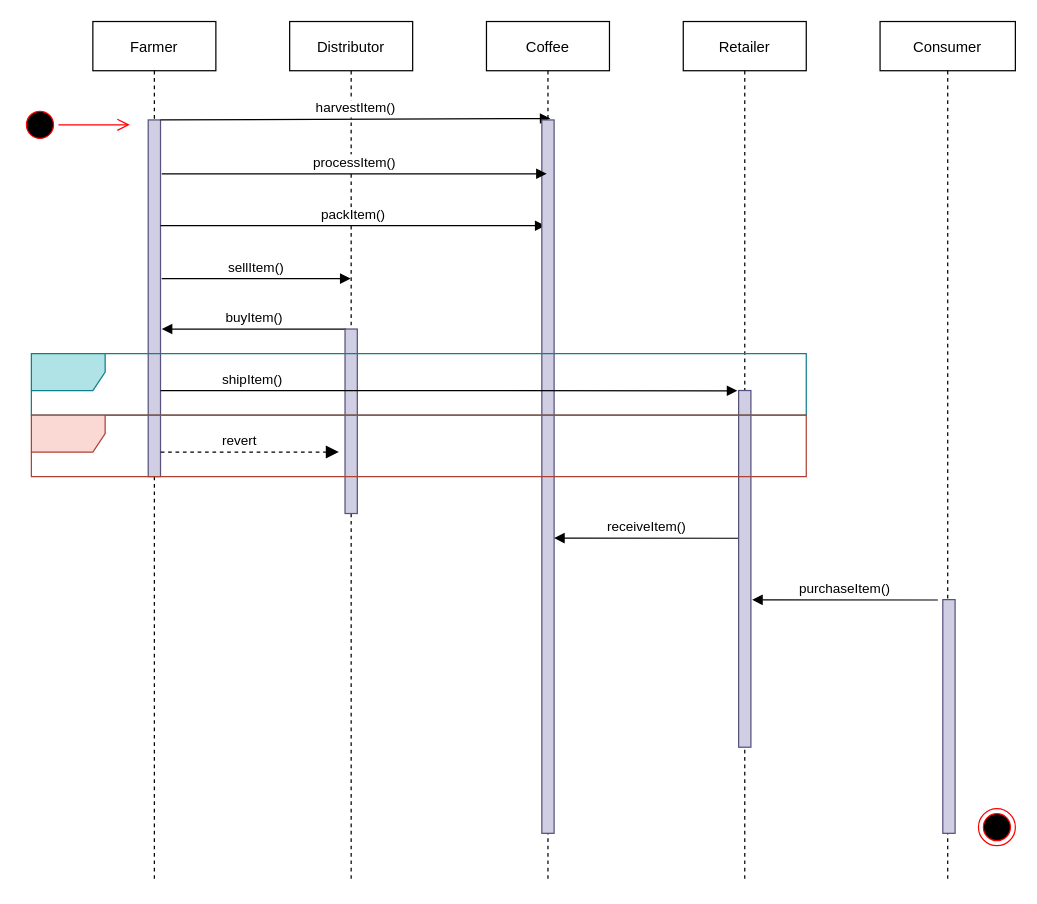
Some shapes in this 1037 by 904 pixel diagram are drawn without their labels. Here are the shapes that lost their labels. From the top down, the centre of each, then its label:
At [418,383]: "If enough ether".
At [418,445]: "else".
